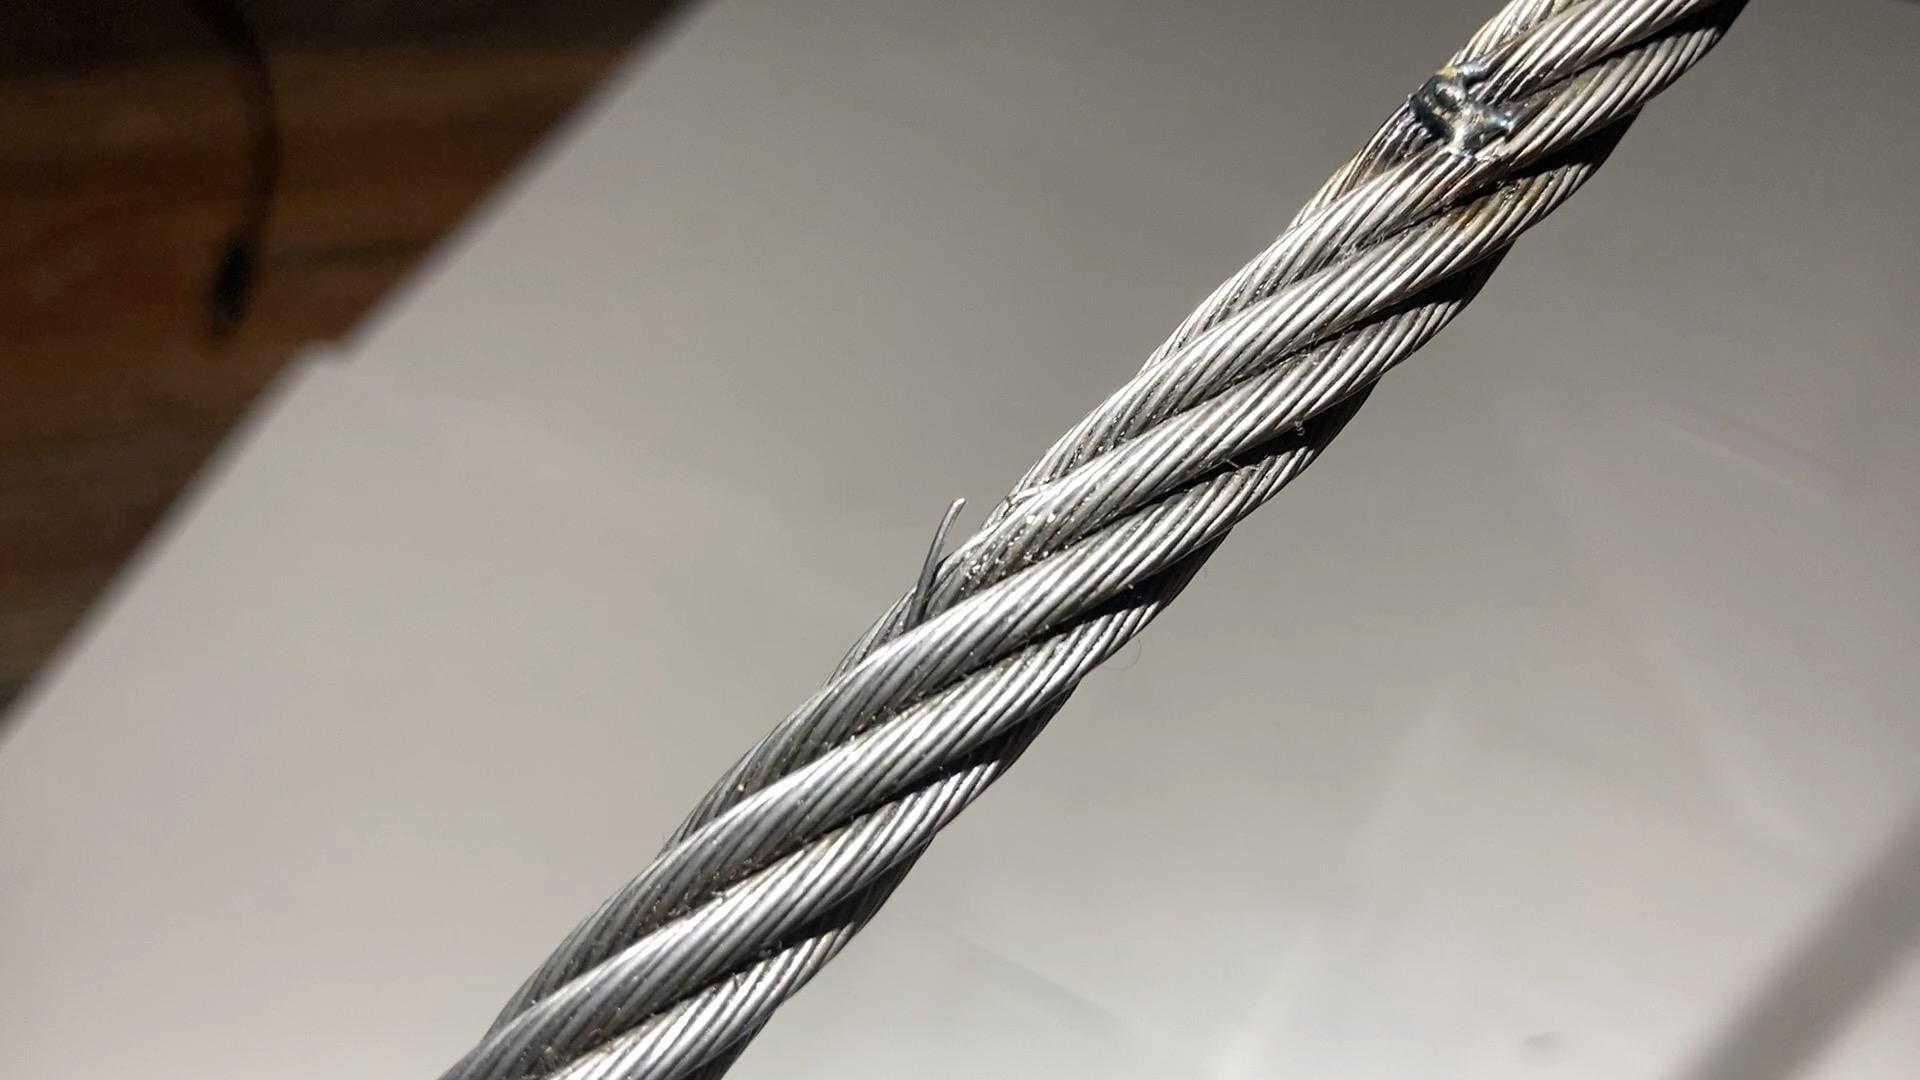break: (876, 500, 998, 617)
